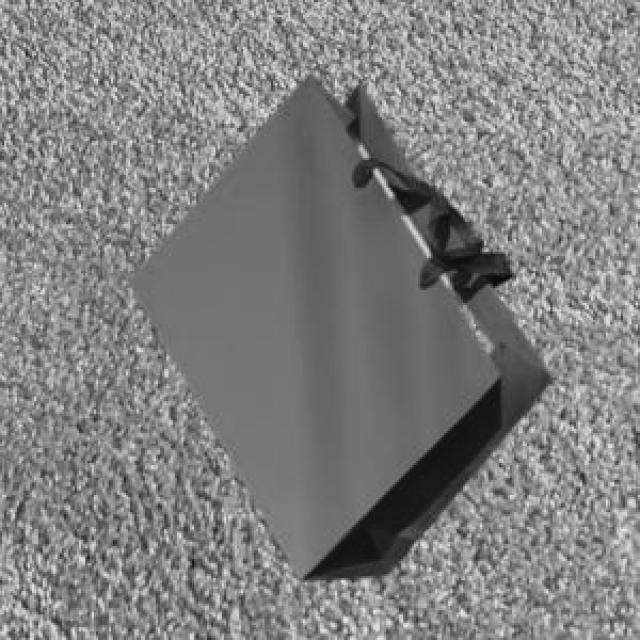paper: (126, 73, 548, 576)
